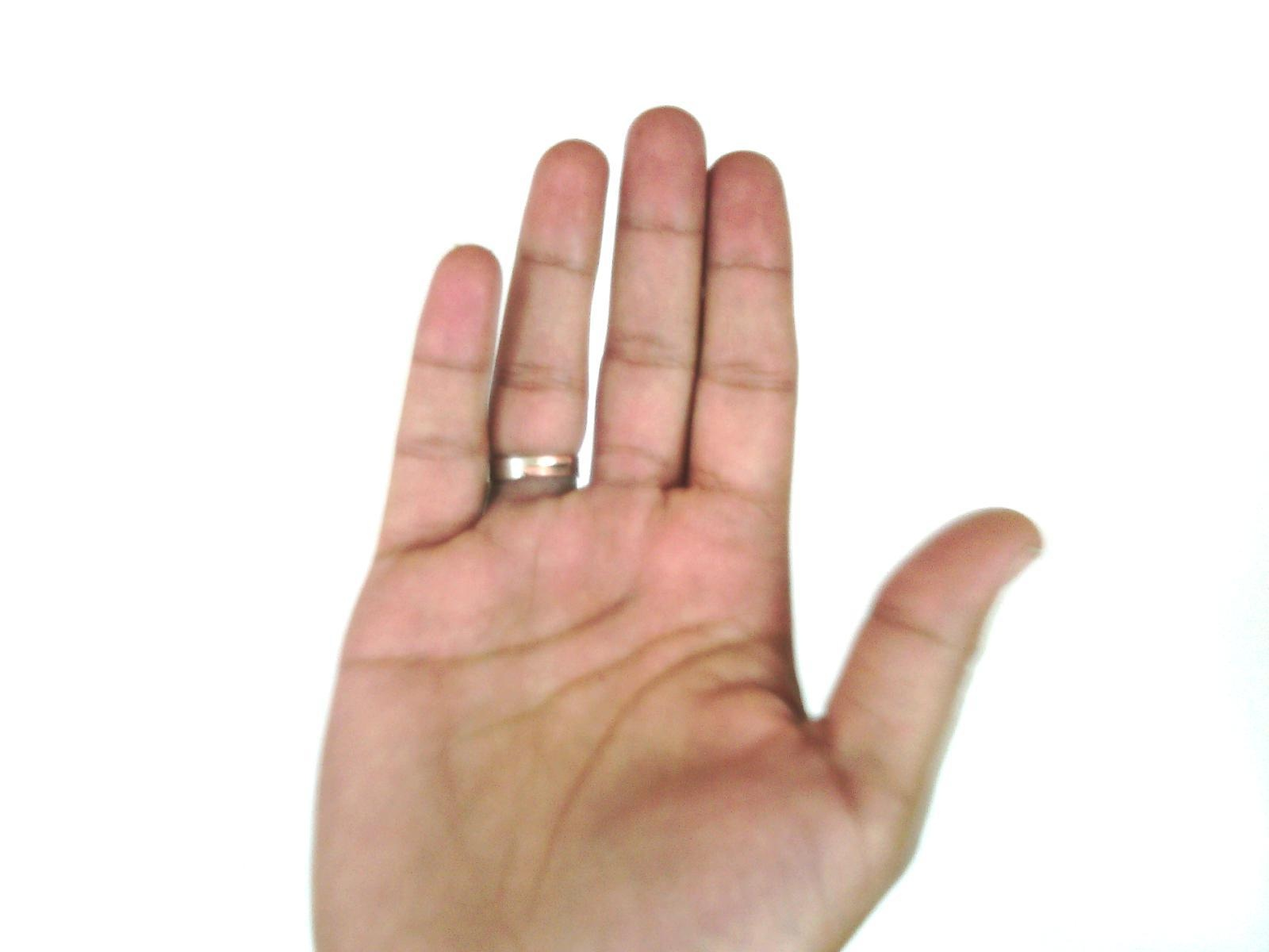open_palm: (305, 105, 1046, 952)
